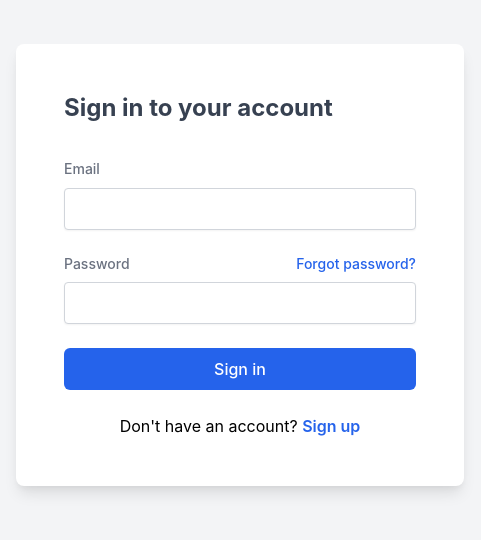
shows an error messages when sign in is clicked and no email and password are provided
// no email and password provided
Click the button "Sign in" at {"x": 240, "y": 369}, box [64,348,416,390]
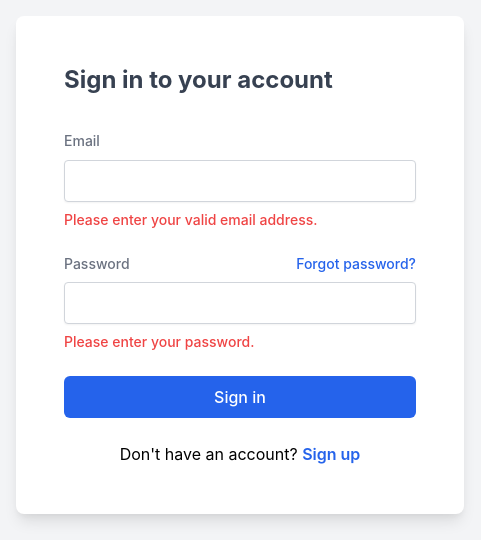
Expected: the text with test id "email__error" shows "Please enter your valid email address", [64,211,318,228]
Expected: the text with test id "password__error" shows "Please enter your password", [64,333,254,350]
